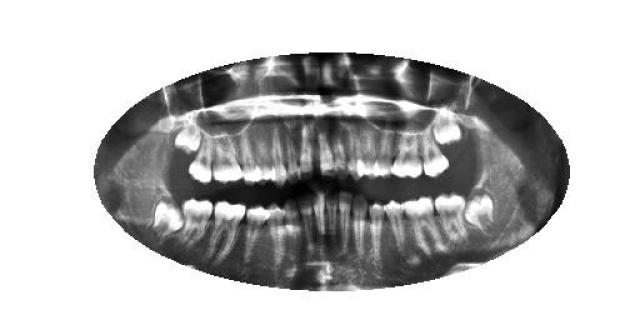Restorations: (148, 199, 186, 245), (462, 190, 498, 234)
